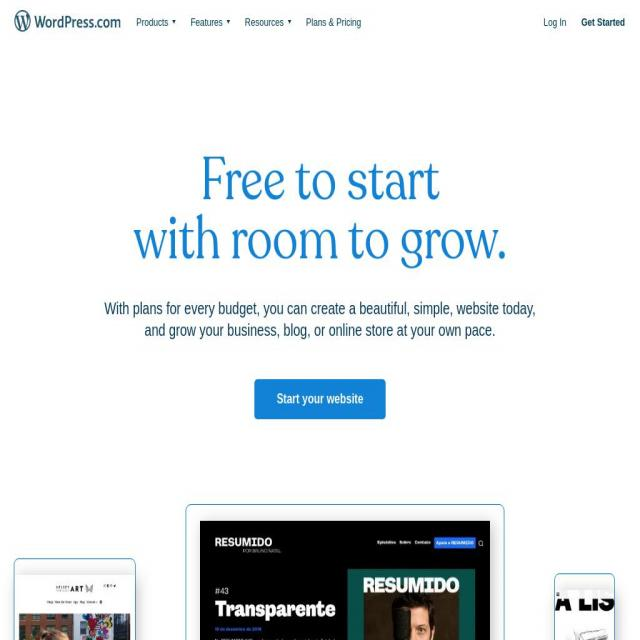login-option: (539, 12, 570, 32)
navigation-links: (135, 10, 364, 33)
sign-up-option: (579, 14, 630, 34)
